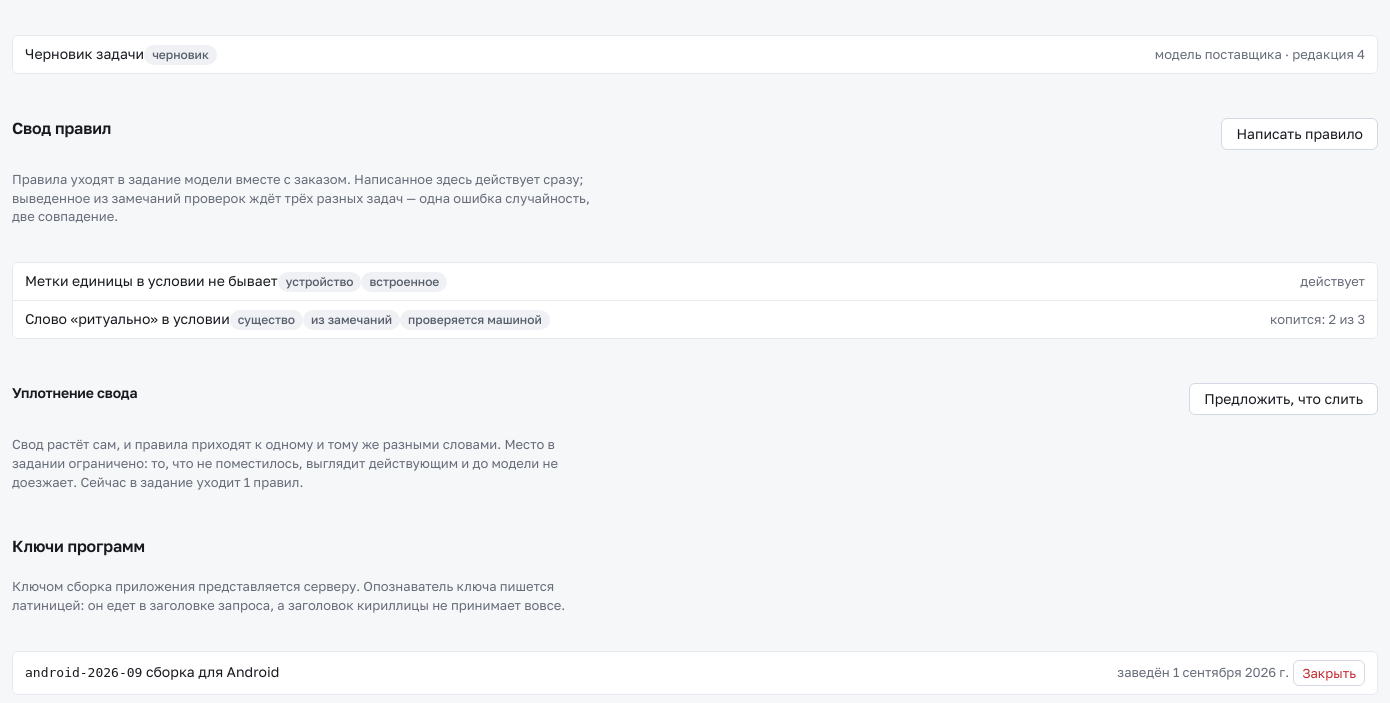
Test: мастерская › отказ по проверке показан словами сервера
This screenshot has width=1390, height=703.
(page scrolled)
Click the text "Слово «ритуально» в условии" at (287, 320), box [25,309,550,330]
(page scrolled)
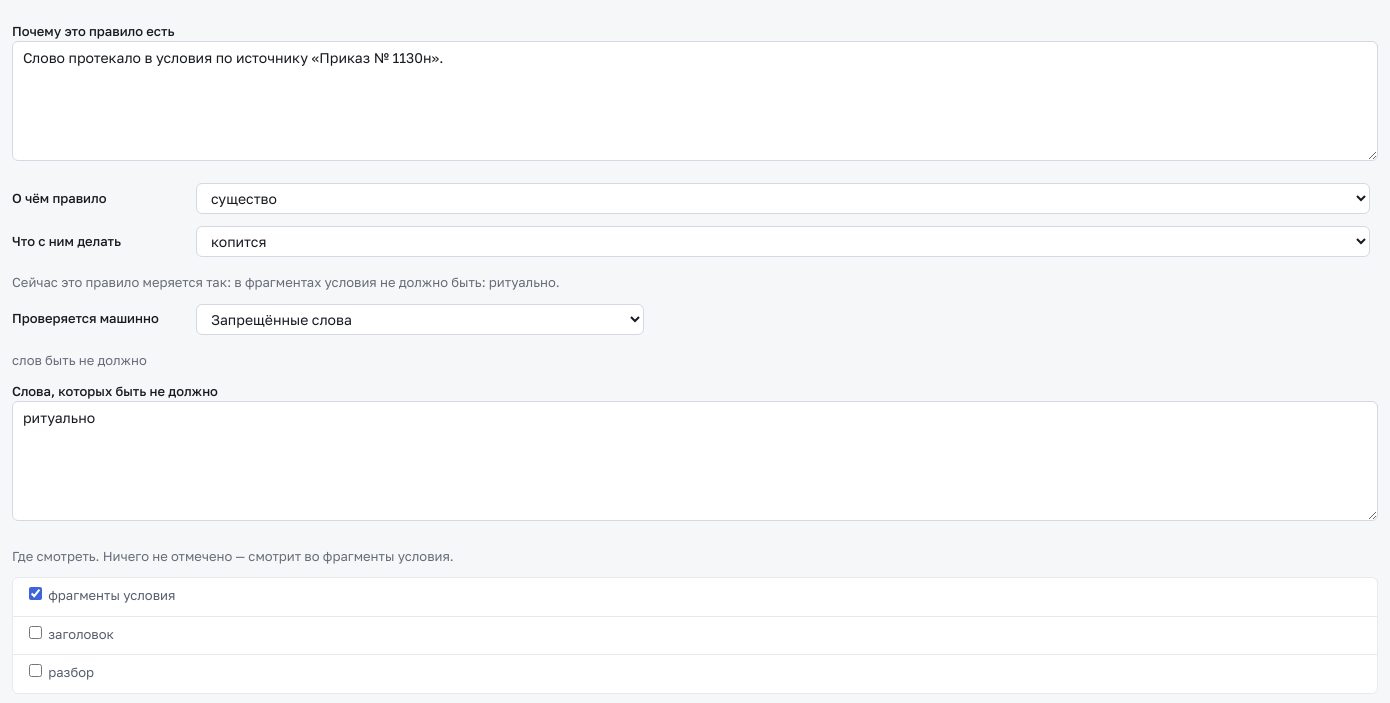
Select "Длина текста" in the dropdown labelled "Проверяется машинно" at (420, 319), box [196,304,644,335]
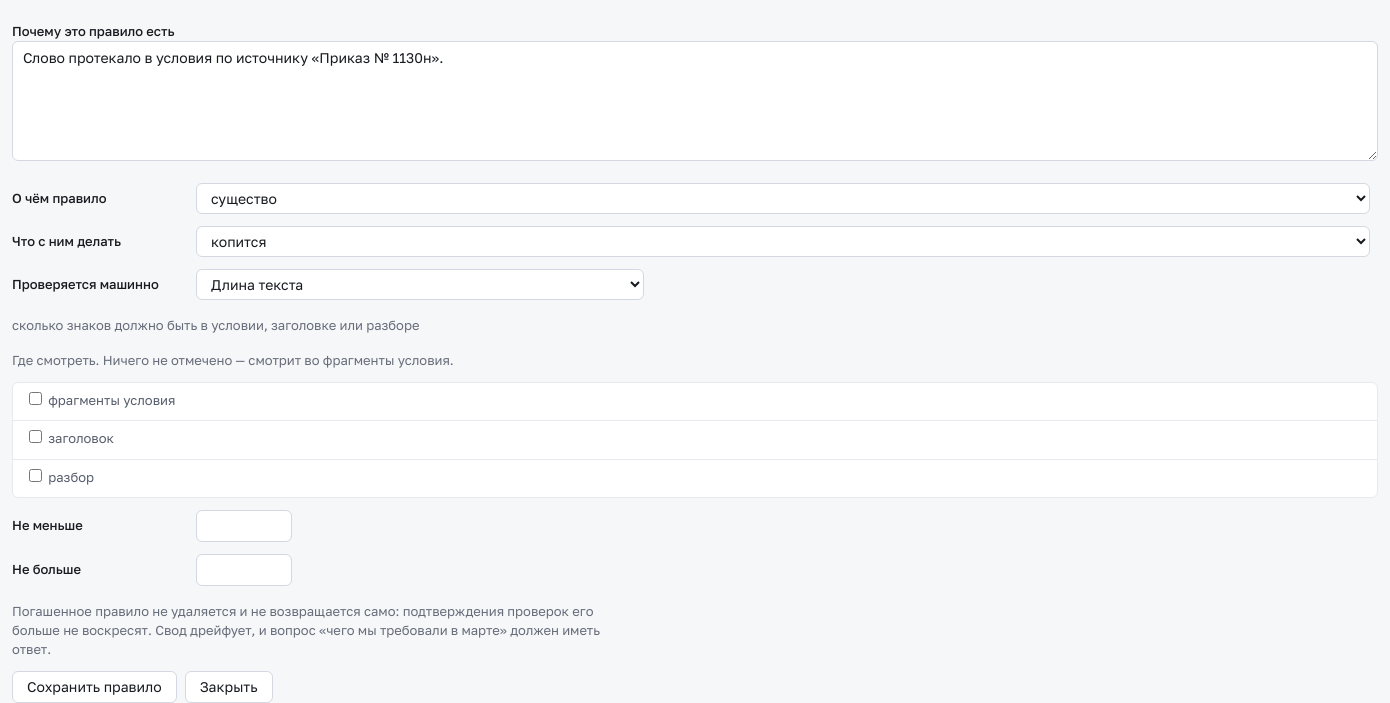
Click the button "Сохранить правило" at (94, 687), box [12,671,177,702]
(page scrolled)
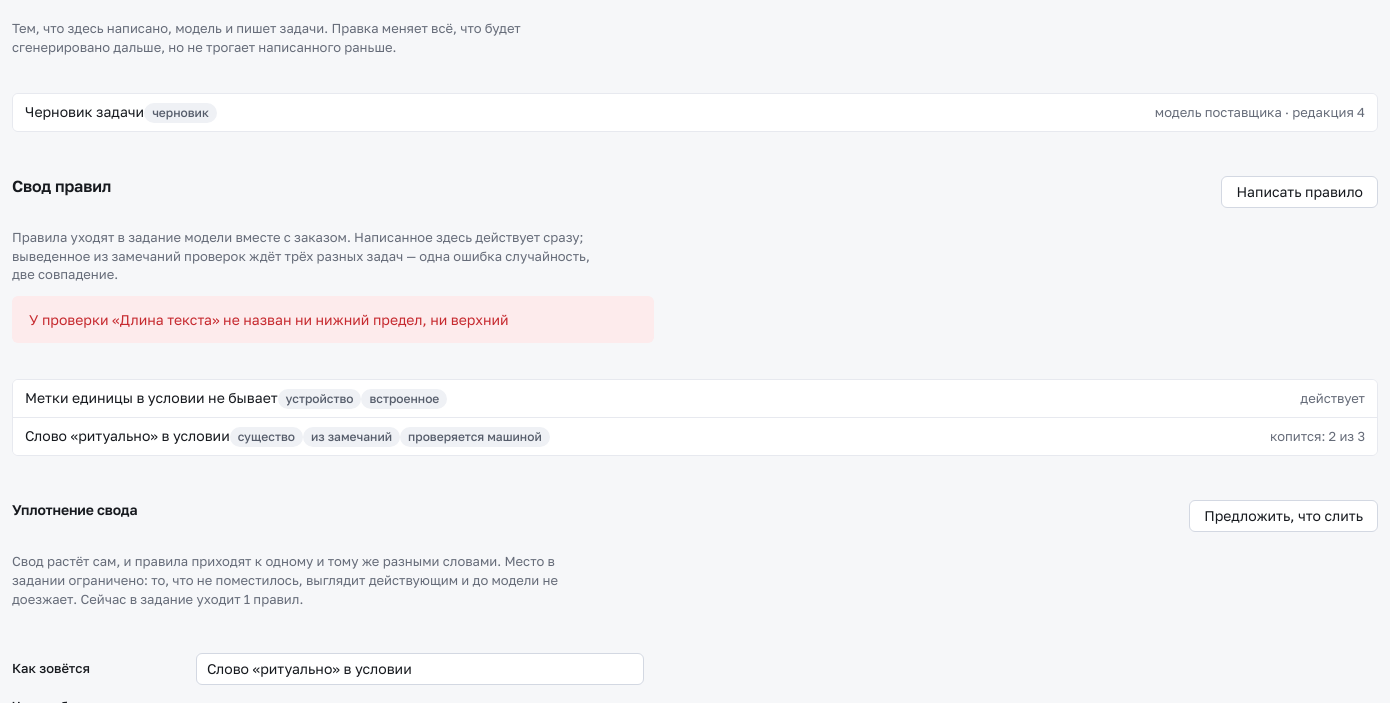
Check: the text "У проверки «Длина текста» не назван ни нижний предел, ни верхний" is shown, box [12,296,654,343]
